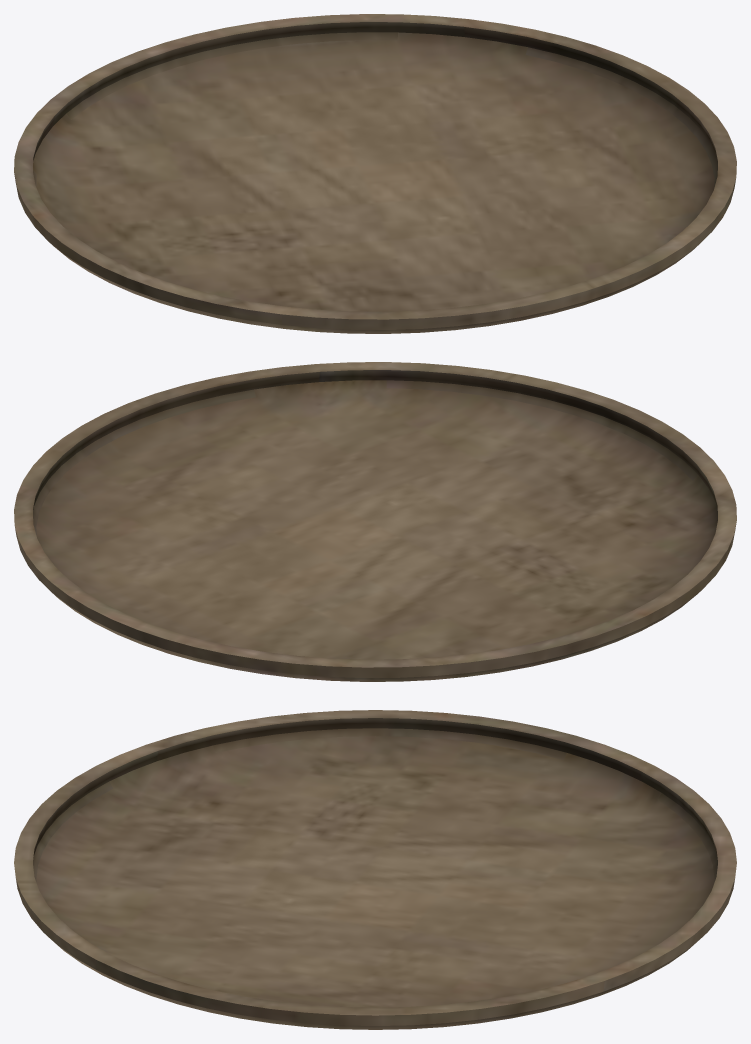
Rendered from SM_plate_01.glb.
3 renders of one model, top to bottom at view 1: azimuth 30°, elevation 25°; view 2: azimuth 150°, elevation 25°; view 3: azimuth 270°, elevation 25°, orthographic.
Parts seen in each view (by area): view 1: SM_plate_01; view 2: SM_plate_01; view 3: SM_plate_01.
Boxes of the visible parts, <box> form: SM_plate_01: <box>14,14,736,333</box>; SM_plate_01: <box>14,362,736,681</box>; SM_plate_01: <box>14,710,736,1029</box>.
Bounding box in the file's own units: 0.348 × 0.0155 × 0.348.
1 material, 1 textured.
